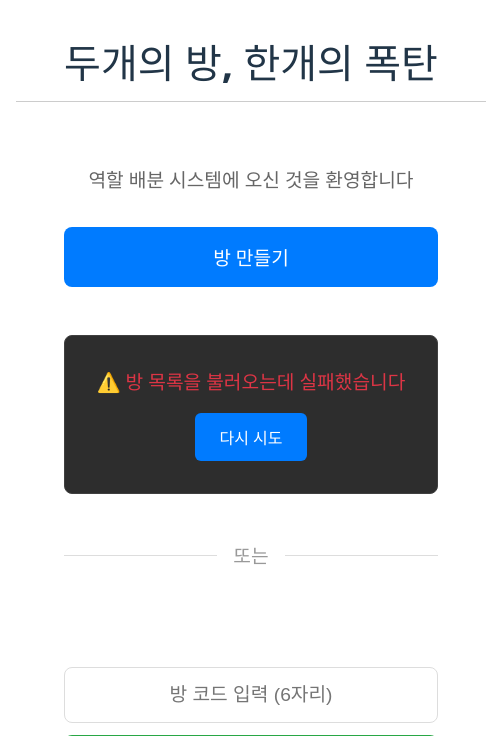
Test: HomePage › should show error when room code is invalid
This screenshot has width=503, height=736.
Type "123" into the field with placeholder "방 코드 입력 (6자리)".
click(251, 695); type("123")  # box [64,667,438,723]
(page scrolled)
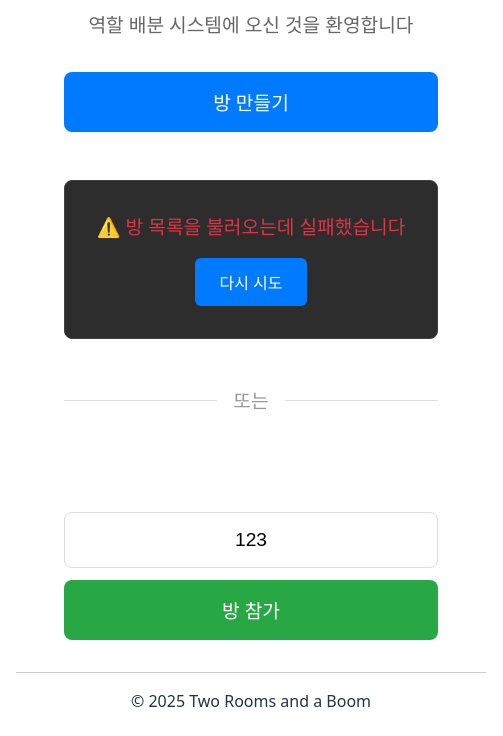
Click the button "방 참가".
click(251, 610)  # box [64,580,438,640]
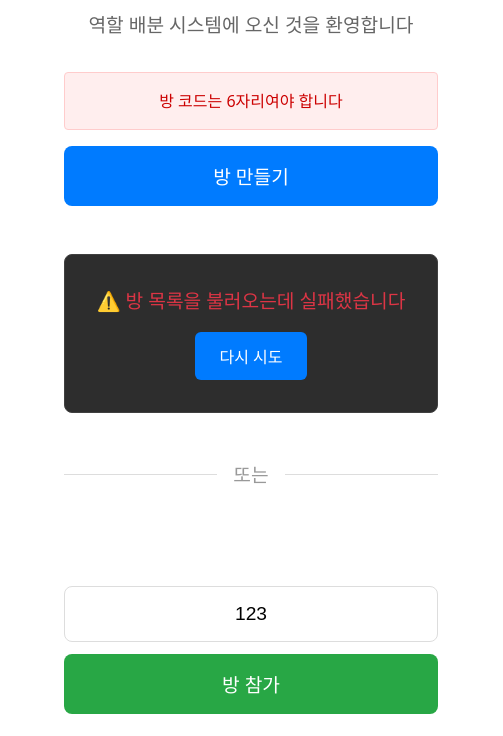
Now the text "방 코드는 6자리여야 합니다" is shown, box [64,72,438,130]
